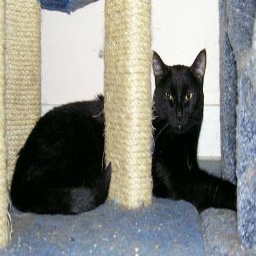cat: (13, 48, 238, 216)
